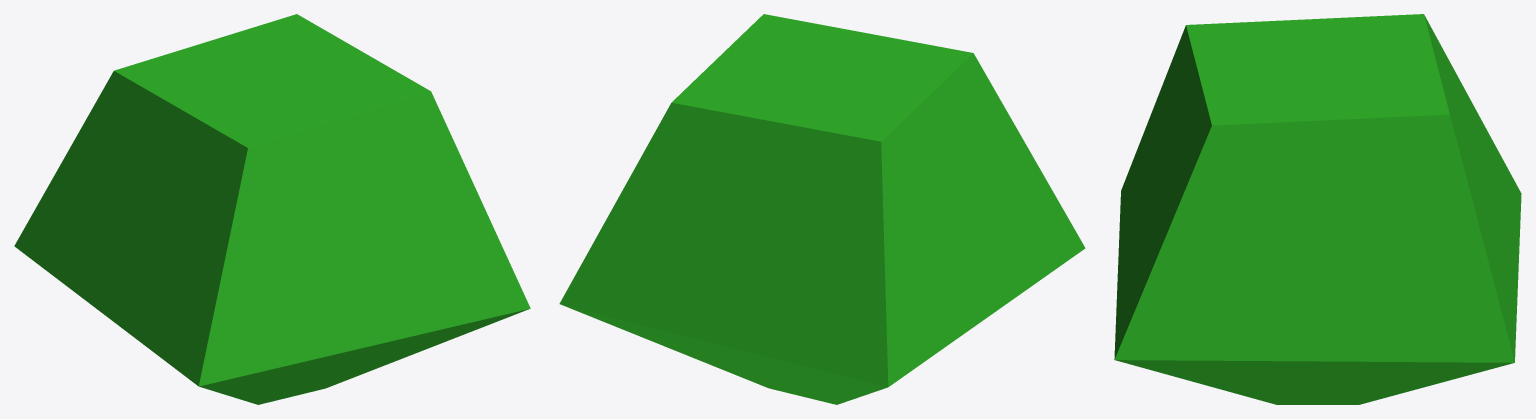
File: Bush1.fbx
3 renders of one model, left to right at view 1: azimuth 30°, elevation 25°; view 2: azimuth 150°, elevation 25°; view 3: azimuth 270°, elevation 25°, orthographic. The views are drawn at different scales.
Visible parts, largest first — view 1: Bush01; view 2: Bush01; view 3: Bush01.
Part boxes in pixels (x1,y1,x2,y2): Bush01: (14,14,530,404); Bush01: (559,14,1085,404); Bush01: (1114,14,1521,404).
Bounding box in the file's own units: 397 × 342 × 397.
